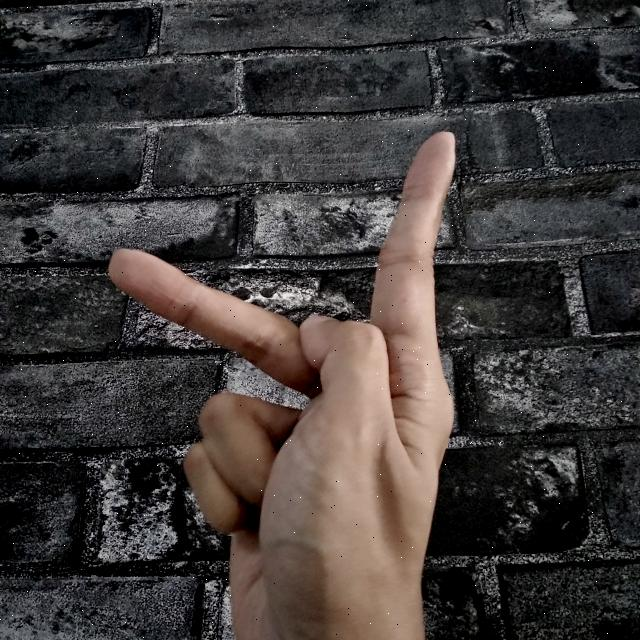K: (108, 126, 470, 640)
